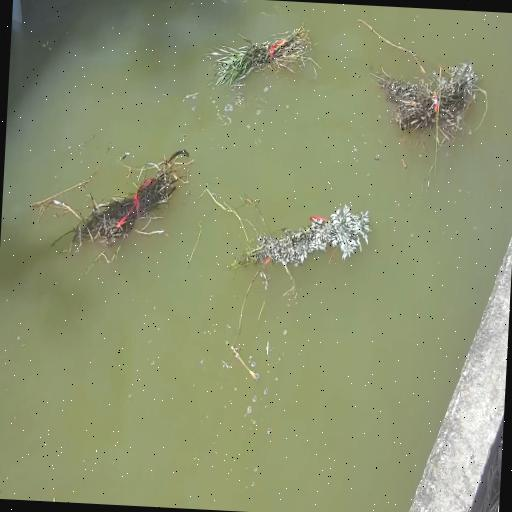twig: (42, 150, 174, 246), (239, 203, 367, 284), (192, 20, 314, 90), (378, 61, 472, 138), (169, 0, 207, 14)
